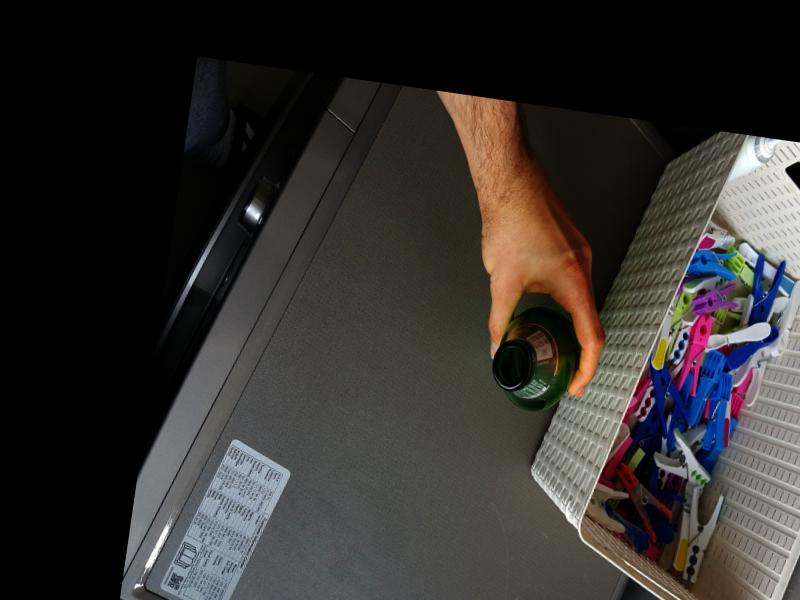Beer: (485, 298, 586, 417)
